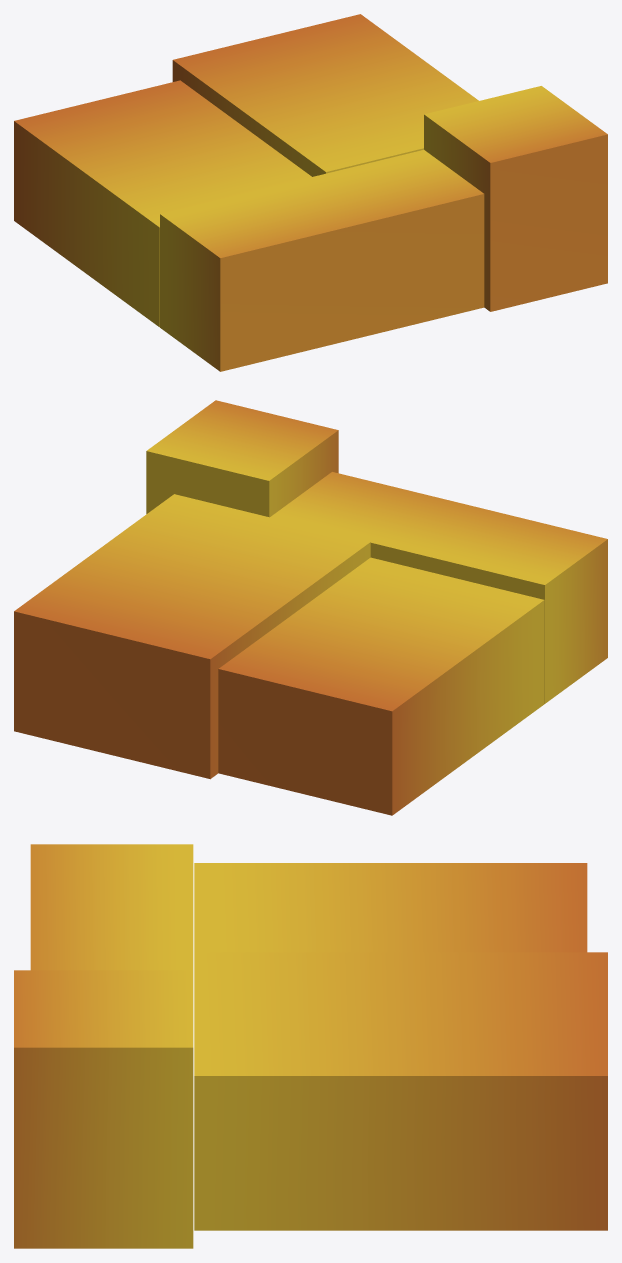
The model's file is EFT0310006.fbx.
3 renders of one model, top to bottom at view 1: azimuth 30°, elevation 25°; view 2: azimuth 150°, elevation 25°; view 3: azimuth 270°, elevation 25°, orthographic. The views are drawn at different scales.
Parts seen in each view (by area): view 1: smEFT0310006; view 2: smEFT0310006; view 3: smEFT0310006.
Boxes of the visible parts, box(x1,y1,x2,y2) form: smEFT0310006: box(14, 14, 607, 371); smEFT0310006: box(14, 400, 607, 815); smEFT0310006: box(14, 844, 607, 1248).
Bounding box in the file's own units: 135 × 50.46 × 135.
1 material, 1 textured.
